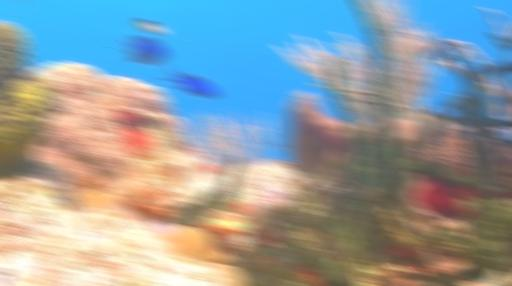Fish: (159, 64, 218, 97), (123, 36, 168, 64), (134, 19, 165, 33), (313, 81, 328, 88), (272, 143, 283, 149), (15, 0, 20, 4)
